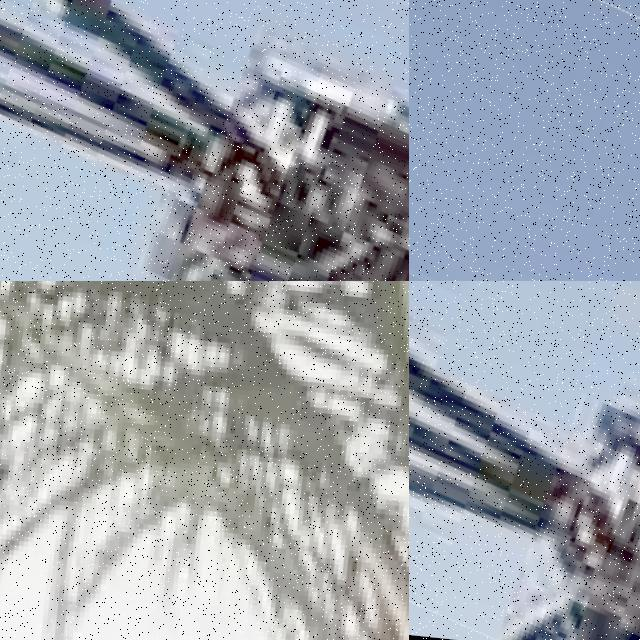drone: (0, 0, 409, 281), (409, 281, 640, 640), (409, 0, 640, 281)
